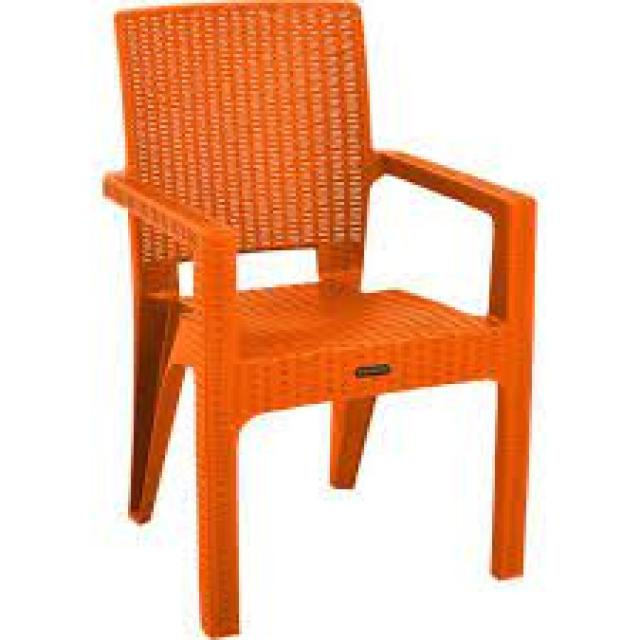chair: (95, 2, 572, 640)
